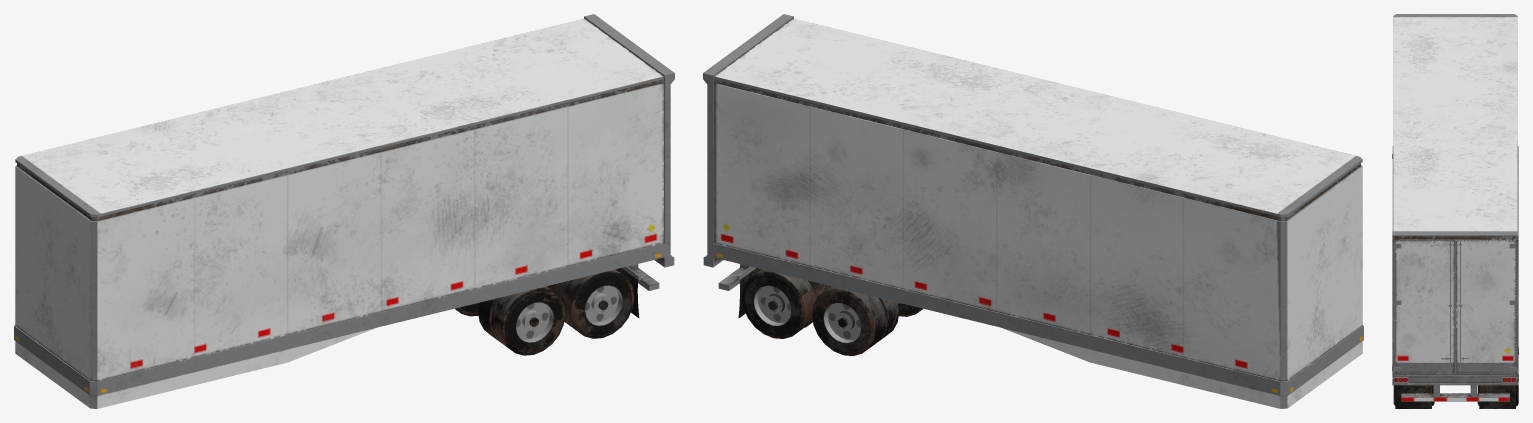
Rendered from truck_trailer.glb.
3 views of the same model, side by side, from view 1: azimuth 30°, elevation 25°; view 2: azimuth 150°, elevation 25°; view 3: azimuth 270°, elevation 25° (orthographic). The views are drawn at different scales.
Bounding box in the file's own units: 987 × 403 × 237.
Materials: 2 (2 with a texture image).
